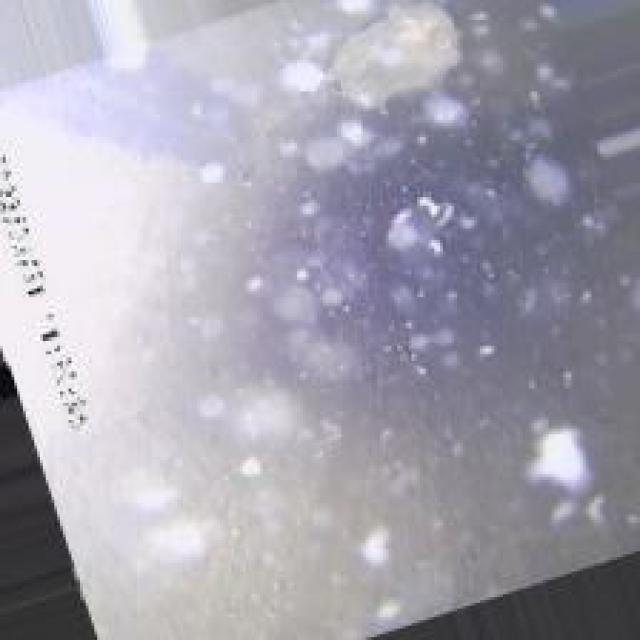stone: (308, 5, 463, 106)
